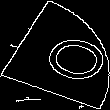O_NW: (11, 25, 99, 85)
